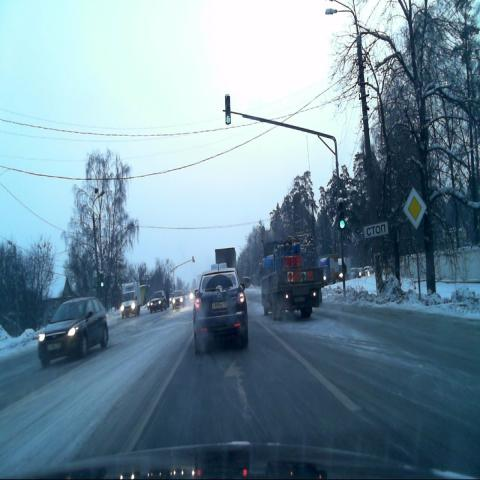6_16: (362, 223, 389, 237)
